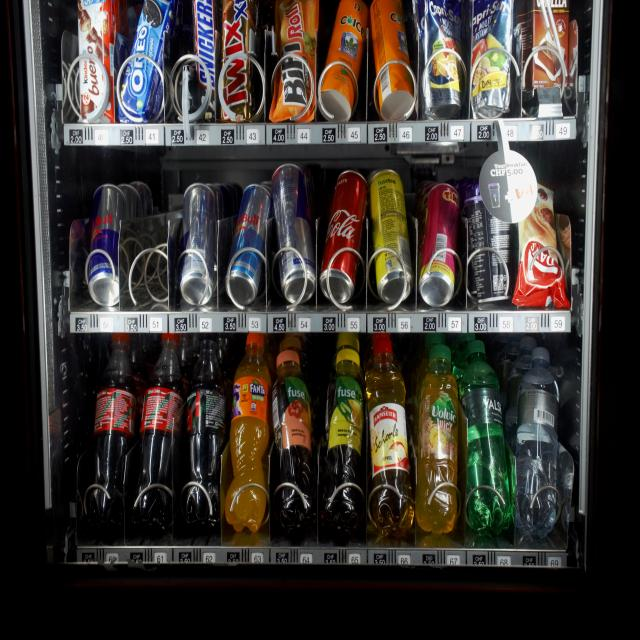7days_croissantschoko_packung_80_1_0000000000003: (516, 168, 567, 314)
bifi_roll__50__4251097402635: (270, 0, 319, 128)
bueno___43__4008400320328: (75, 0, 118, 125)
c-swiss_dosenabisicetea__33__9120025930135: (322, 0, 370, 129)
caferoyal_classicmacchiato__33__7617014164487: (468, 182, 514, 301)
caprisun_multivitamin__20__4000177605004: (420, 0, 473, 122), (467, 0, 518, 121)
coke__flasche_50__54491472: (134, 336, 187, 540), (84, 330, 139, 520), (322, 161, 367, 311)
coke_zero_flasche_50__5449000131836: (179, 335, 227, 532)
comella_schokodrink__33__7613100037253: (522, 0, 570, 118)
fanta___50__40822938: (226, 327, 271, 532)
fuse_lemon__50__5449000235947: (322, 342, 366, 544)
fuse_lemon_dose_33__5449000235947: (370, 166, 405, 301)
fuse_peach__50__5449000236623: (271, 342, 314, 539)
oreo___66__84100733: (113, 0, 176, 129)
ramseier_schorle__50__7610057012456: (362, 332, 410, 540)
redbull___33__90162909: (270, 167, 314, 300), (82, 178, 129, 302), (178, 184, 220, 308)
redbull_light__33__90162800: (228, 182, 270, 304)
snickers___50__5000159461122: (192, 0, 219, 126)
tiki_himbeerbrause_dose_33_1_: (419, 178, 462, 306)
twix___50__5000159459228: (217, 0, 262, 126)
valser_classic__50__76404160: (453, 329, 518, 544)
valser_still__50__7610335002575: (516, 349, 562, 539)
volvic_pinapple__50__305764335648: (416, 332, 466, 539)
